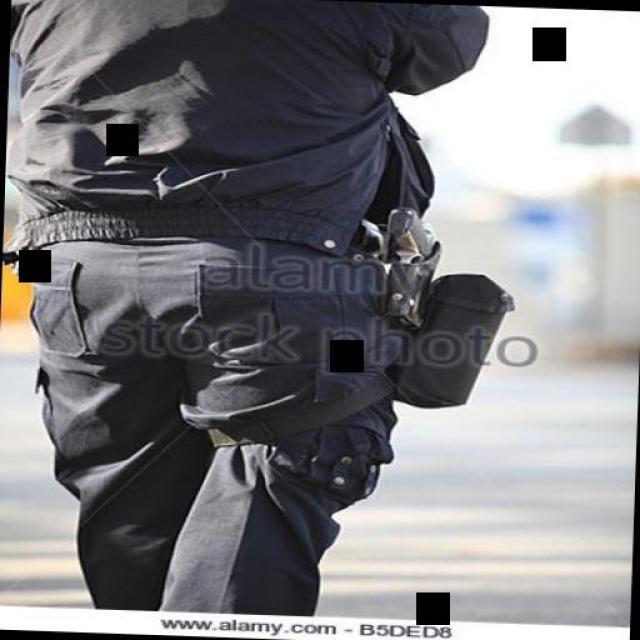gun: (378, 202, 442, 324)
